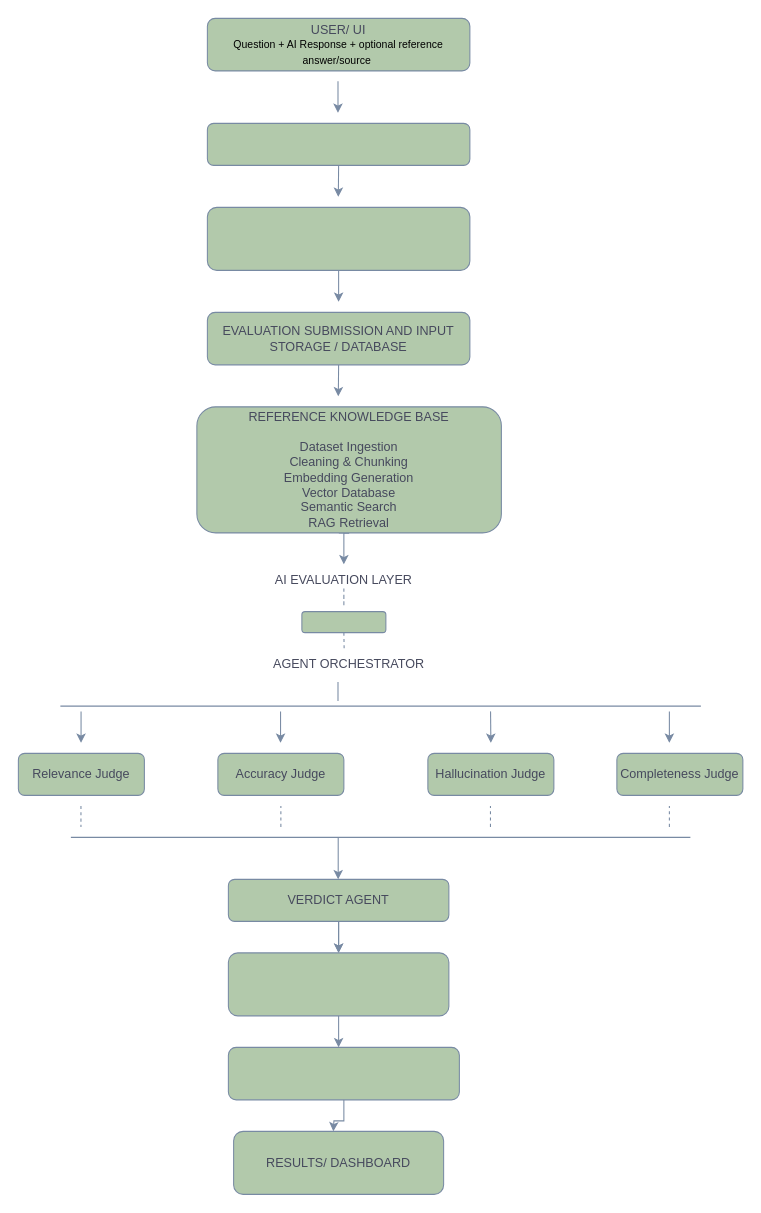
The diagram is 761 pixels wide and 1213 high, and some of its shapes have lost their labels. Each missing label, with the centre of its shape:
"BACKEND/ API LAYER" goes at (338,143).
"EVALUATION INPUT MODULE" goes at (338,238).
"EVALUATION SCORING & VERDING MODULE" goes at (338,984).
"LLM" goes at (343,622).
"STRUCTURED EVALUATION RESULTS MODULE" goes at (343,1073).
